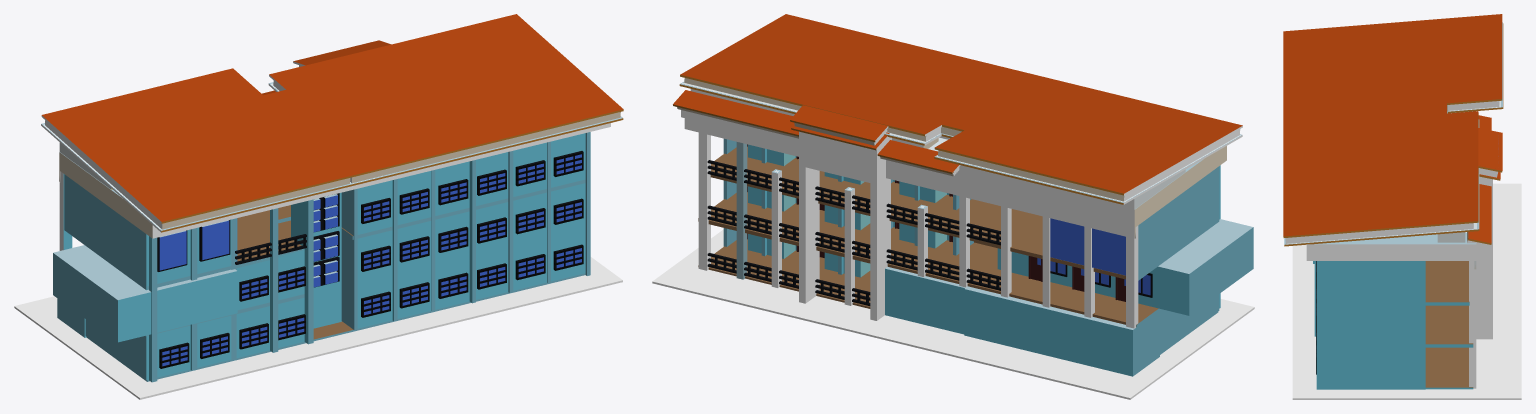
Rendered from COE.glb.
The picture shows the model from 3 angles, left to right: view 1: azimuth 30°, elevation 25°; view 2: azimuth 150°, elevation 25°; view 3: azimuth 270°, elevation 25°; orthographic projection. The views are drawn at different scales.
Parts seen in each view (by area): view 1: cube.022; view 2: cube.022; view 3: cube.022.
Part boxes in pixels (bbox=[...]): cube.022: bbox=[14, 14, 623, 399]; cube.022: bbox=[652, 14, 1254, 399]; cube.022: bbox=[1283, 14, 1521, 399].
Bounding box in the file's own units: 17.56 × 6.68 × 8.06.
17 materials, 16 textured.
